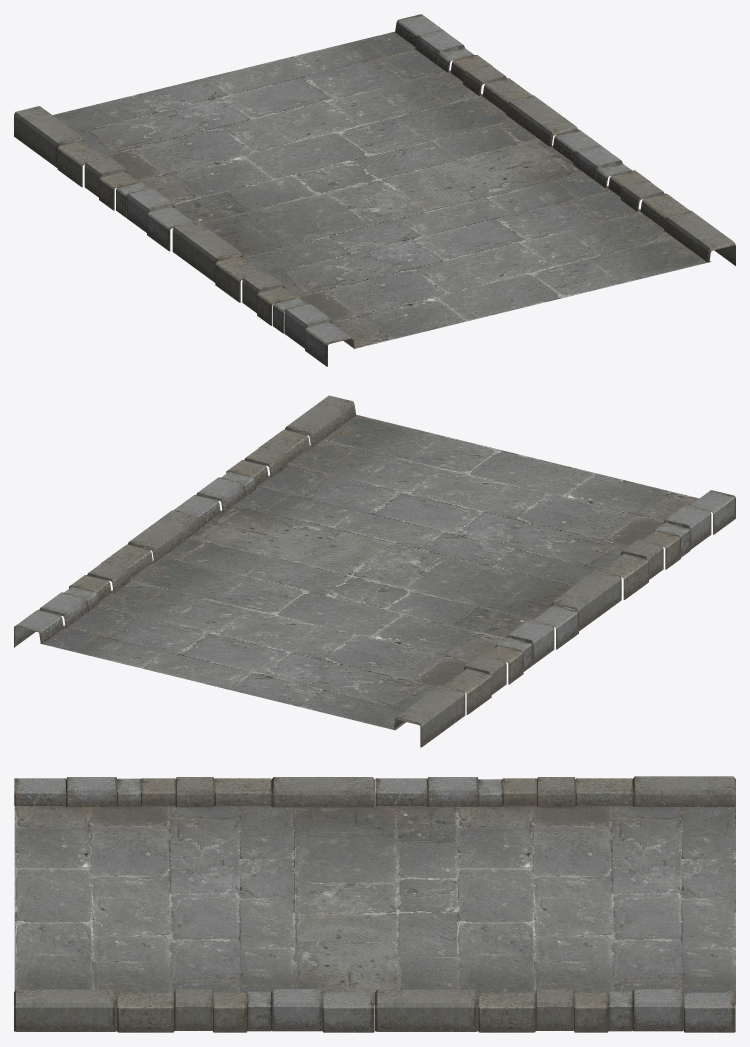
Rendered from bg_lut_lucastle_street02_sm_jjy.FBX.
3 views of the same model, one above another, from view 1: azimuth 30°, elevation 25°; view 2: azimuth 150°, elevation 25°; view 3: azimuth 270°, elevation 25° (orthographic). The views are drawn at different scales.
Visible parts, largest first — view 1: bg_lut_lucastle_street02_sm_jjy; view 2: bg_lut_lucastle_street02_sm_jjy; view 3: bg_lut_lucastle_street02_sm_jjy.
Boxes of the visible parts, x1=… form: bg_lut_lucastle_street02_sm_jjy: x1=14, y1=14, x2=735, y2=366; bg_lut_lucastle_street02_sm_jjy: x1=14, y1=395, x2=735, y2=747; bg_lut_lucastle_street02_sm_jjy: x1=14, y1=776, x2=735, y2=1032.
Bounding box in the file's own units: 386 × 21.89 × 513.
